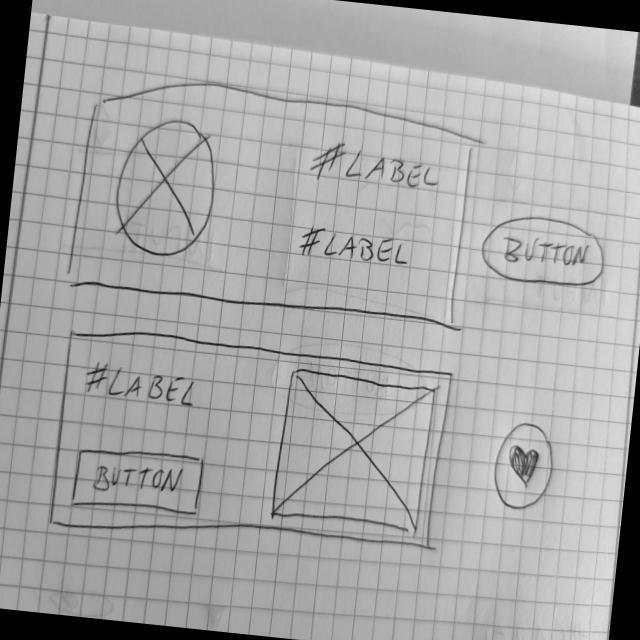button: (476, 209, 613, 294), (69, 440, 211, 522)
container: (61, 62, 481, 335), (44, 322, 459, 572)
icon-button: (487, 417, 562, 515)
image: (268, 366, 441, 537), (109, 110, 226, 264)
label: (306, 135, 444, 196), (81, 358, 205, 413), (290, 219, 417, 272)
